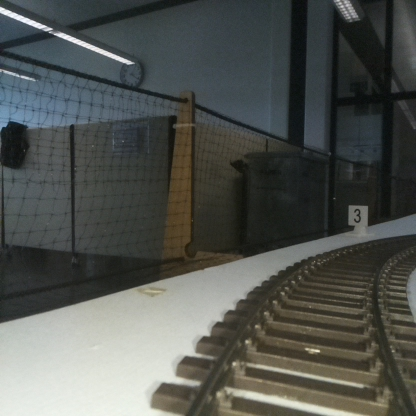white-stop-3: (348, 206, 367, 235)
